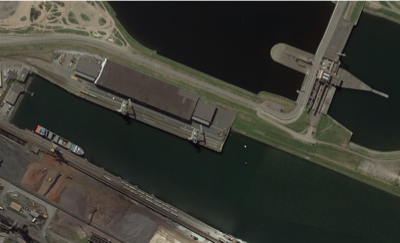boat: (35, 124, 85, 155)
